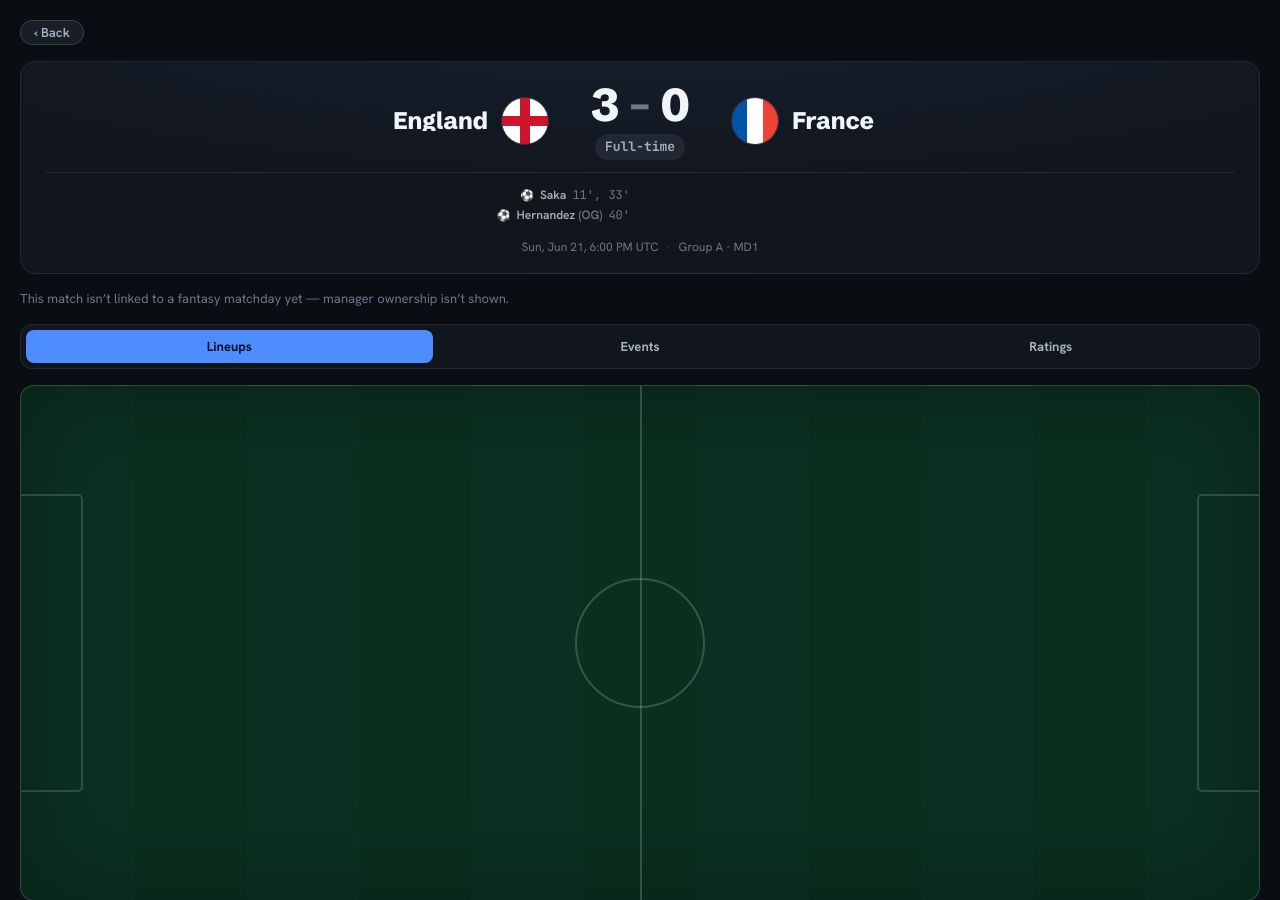
Test: GameDetailClient — Events tab + scorers row (T16b render) › renders a brace, an own goal (OG, beneficiary side), a substitution, and a card
expect the text "Saka" shows "11'": met, box x1=572 y1=187 x2=630 y2=203
expect the text "Saka" shows "33'": met, box x1=572 y1=187 x2=630 y2=203
Events tab: the substitution (▲ on / ▼ off), the yellow card, and the timeline OG tag render.
Click the tab "Events". click: (640, 346)
box: x1=437 y1=330 x2=843 y2=363
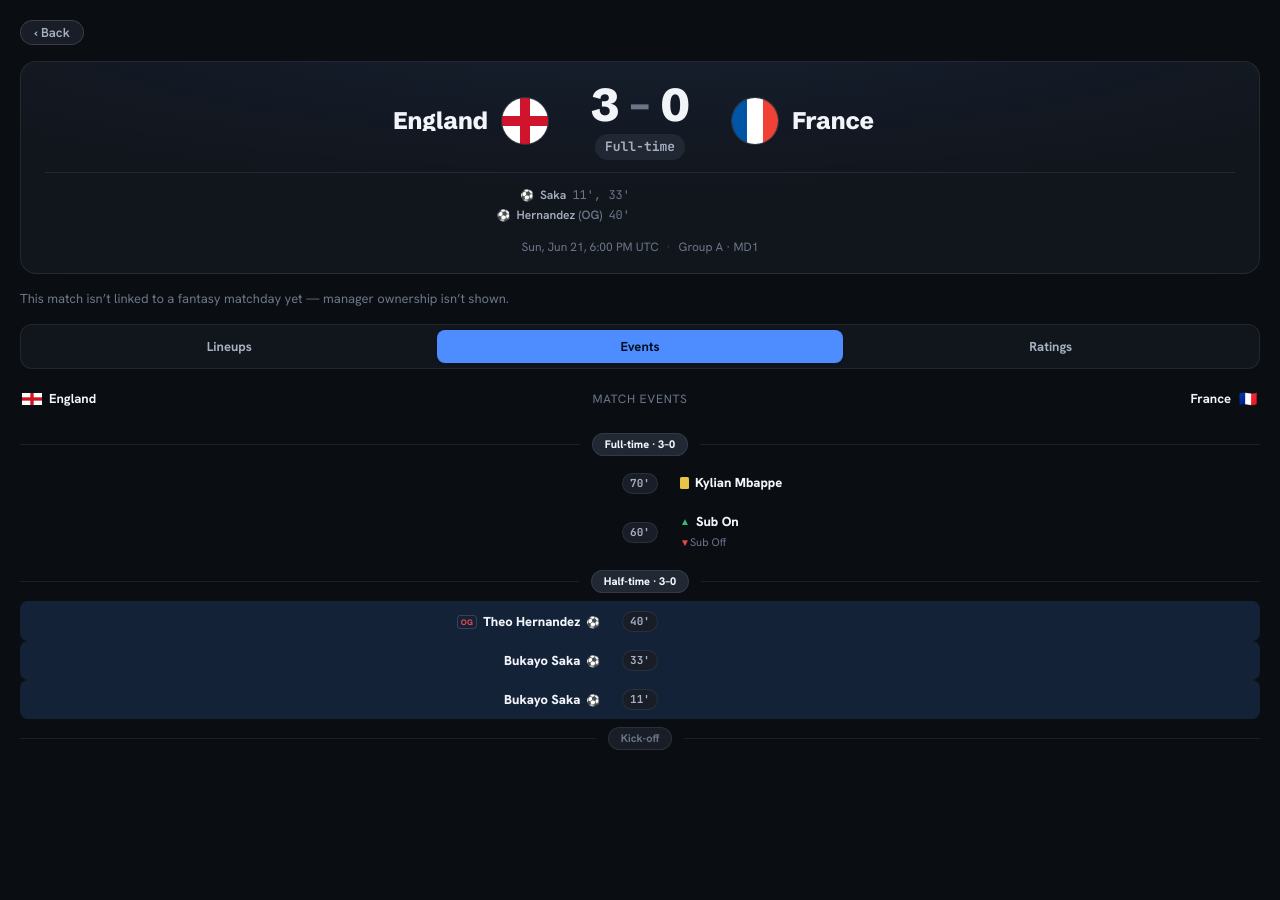
expect the text "Sub Off" is shown: met, box x1=690 y1=535 x2=726 y2=549
expect the element with class "is-yel" is shown: met, box x1=680 y1=477 x2=689 y2=489
expect the text "OG" is shown: met, box x1=457 y1=615 x2=477 y2=629
